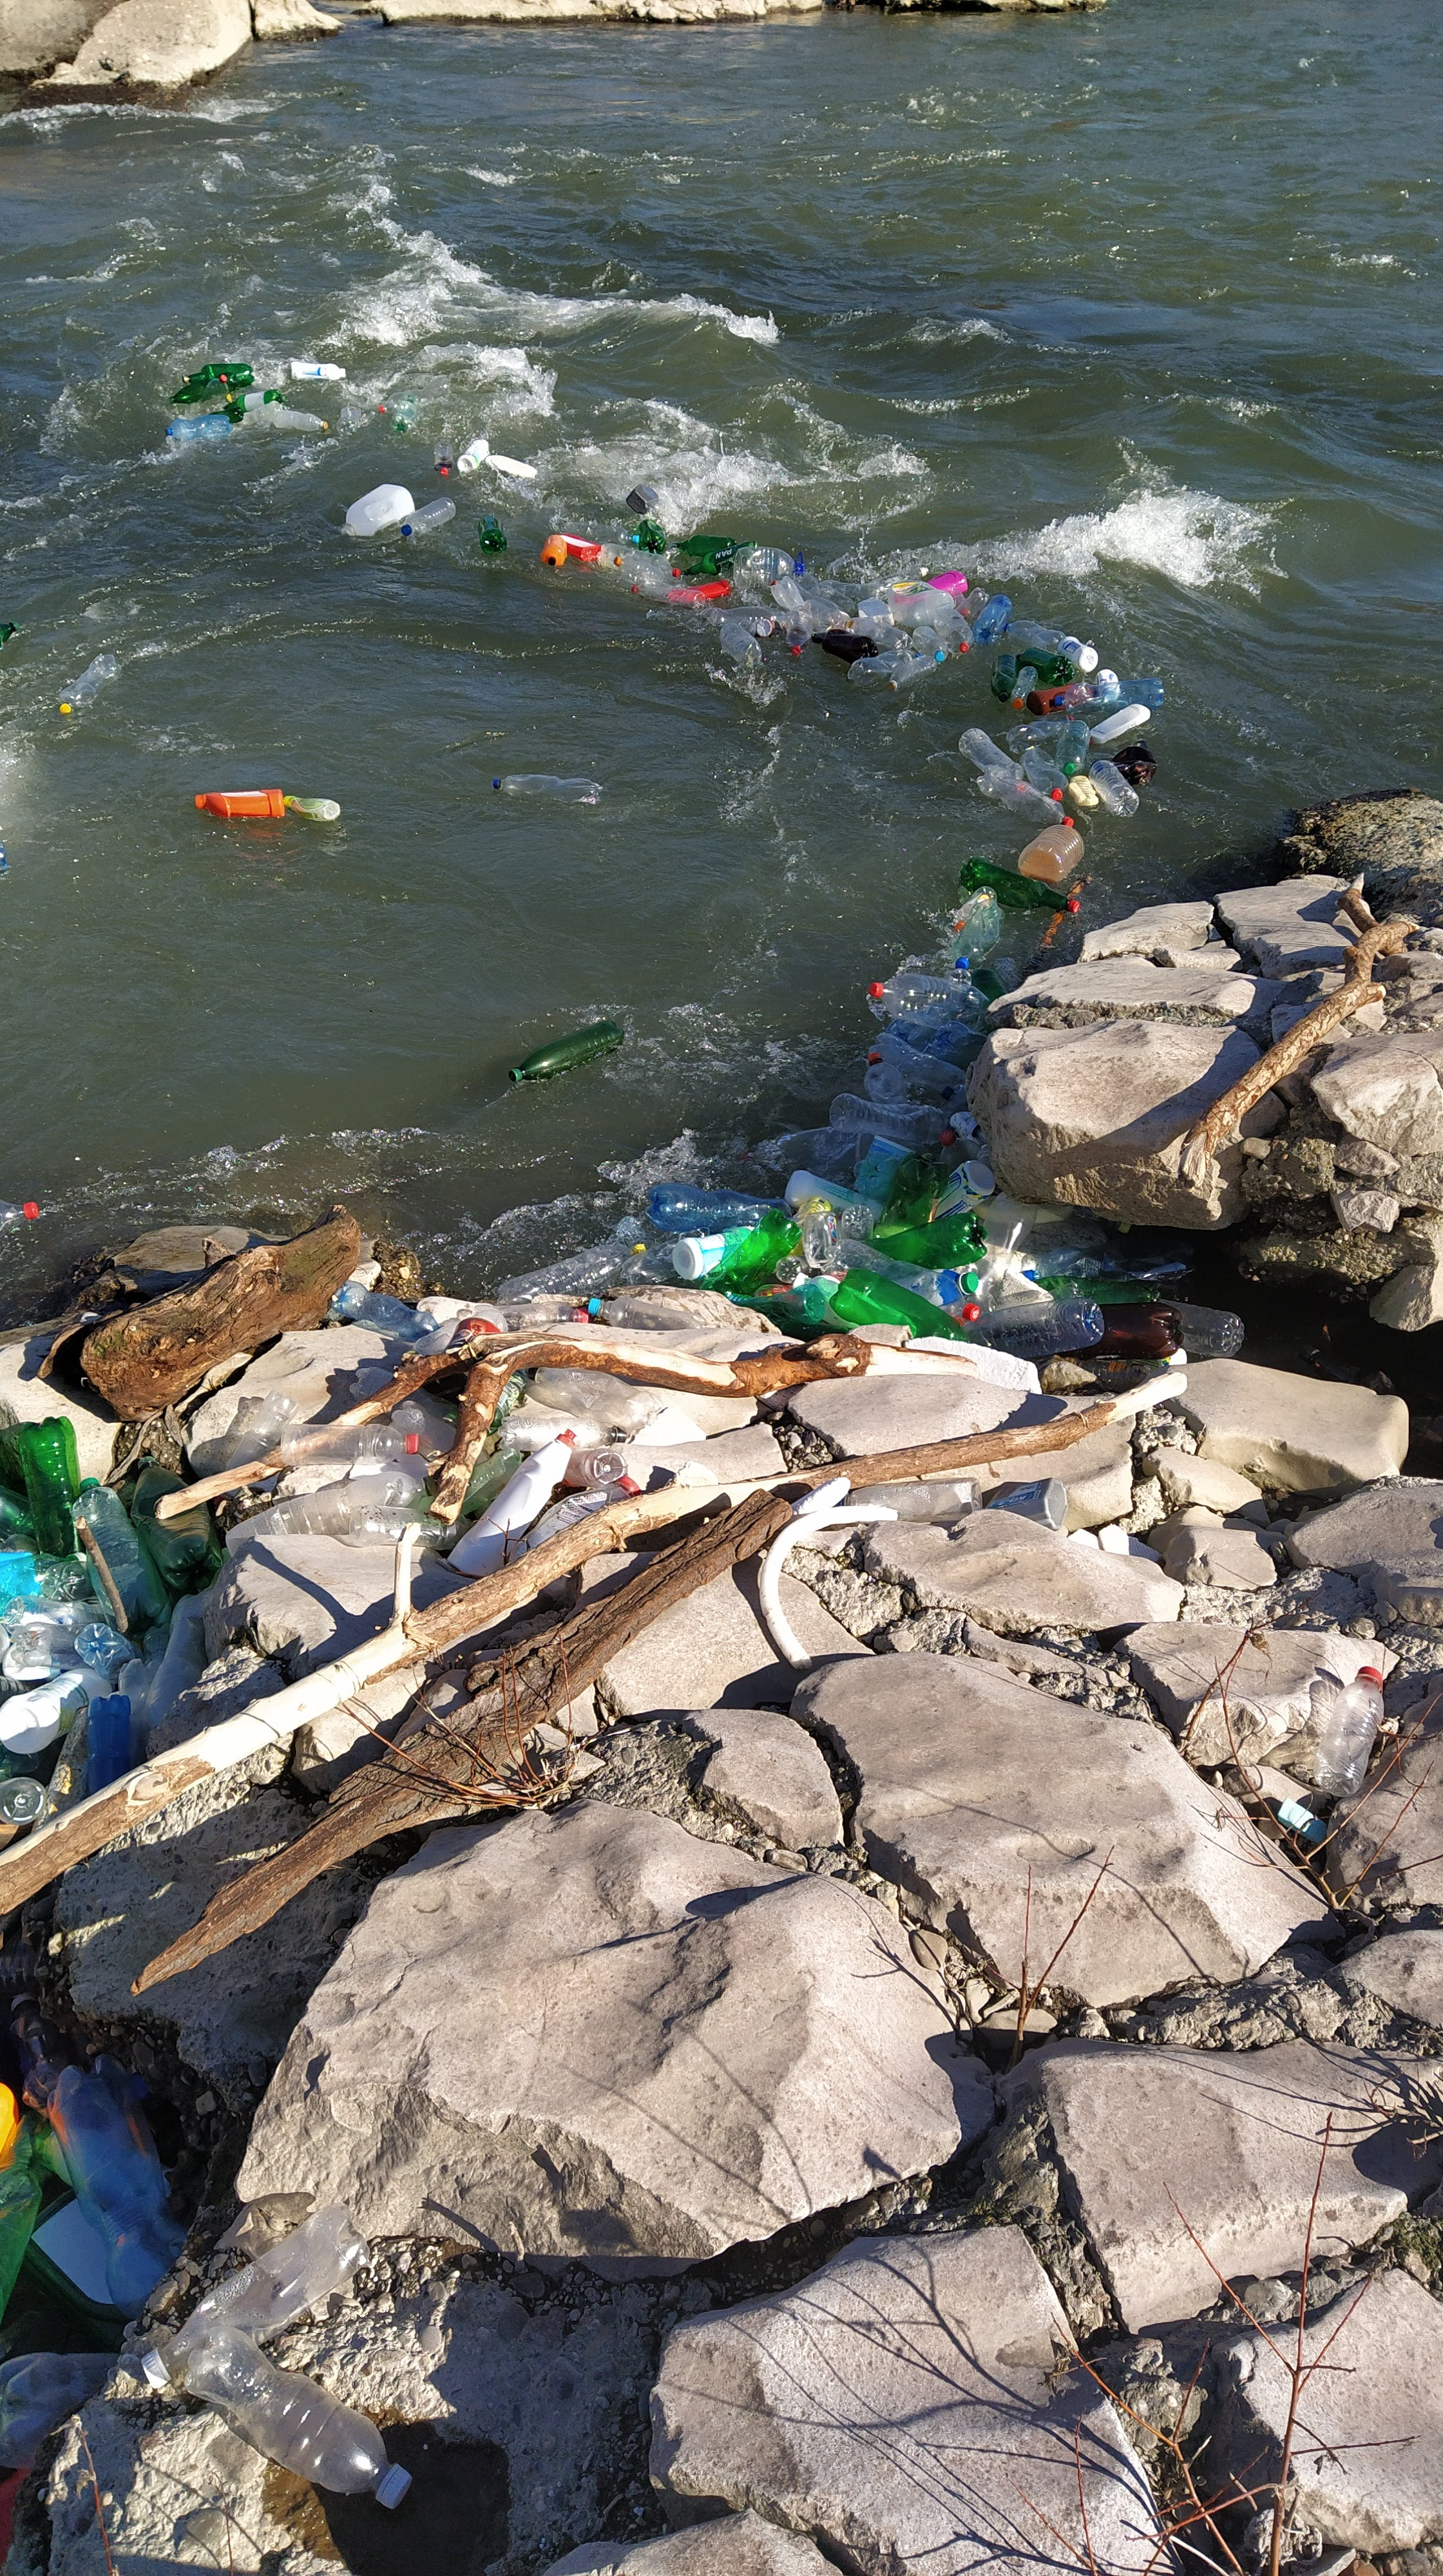Plastic Bottle: (1300, 1345, 1443, 1468), (1022, 1240, 1200, 1295), (698, 1208, 802, 1295), (498, 1244, 646, 1304), (644, 1182, 791, 1231), (508, 1021, 625, 1081), (960, 858, 1080, 913), (868, 973, 988, 1028), (976, 764, 1075, 826), (829, 1093, 951, 1143), (866, 1031, 965, 1092), (1161, 1299, 1245, 1357), (784, 1169, 882, 1219), (673, 1226, 758, 1281), (853, 1136, 922, 1201), (1053, 678, 1163, 713), (342, 483, 414, 536), (1018, 824, 1084, 883), (58, 653, 120, 713), (953, 901, 1006, 968), (1032, 1276, 1161, 1302), (958, 727, 1023, 778), (887, 580, 954, 628), (597, 543, 680, 579), (733, 547, 804, 587), (620, 1238, 680, 1286), (492, 775, 600, 801), (1089, 761, 1138, 817), (846, 649, 919, 686), (1043, 1203, 1131, 1233), (379, 377, 448, 414), (1006, 717, 1075, 754), (195, 789, 283, 817), (1020, 748, 1068, 800), (1091, 702, 1151, 743), (683, 541, 756, 575), (1016, 648, 1075, 686), (864, 1053, 908, 1104), (933, 1021, 986, 1063), (813, 630, 878, 663), (170, 372, 239, 403), (400, 497, 455, 536), (1004, 619, 1066, 653), (1114, 740, 1158, 786), (850, 617, 914, 649), (1055, 720, 1091, 775), (972, 594, 1011, 644), (632, 582, 705, 609), (954, 886, 997, 931), (933, 609, 974, 655), (887, 655, 937, 692), (719, 623, 761, 665), (182, 363, 255, 387), (565, 522, 639, 545), (165, 414, 232, 439), (809, 582, 857, 616), (940, 1131, 981, 1169), (822, 579, 885, 603), (1057, 635, 1098, 672), (283, 794, 340, 821), (1027, 683, 1071, 717), (614, 556, 669, 582), (0, 1200, 37, 1238), (193, 373, 227, 416), (675, 534, 737, 557), (804, 598, 845, 632), (705, 607, 754, 633), (225, 389, 285, 410), (786, 605, 811, 656), (914, 626, 949, 662), (485, 455, 538, 478), (972, 968, 1007, 1001), (992, 655, 1016, 702), (1011, 665, 1038, 709), (871, 568, 930, 587), (770, 575, 804, 609), (956, 587, 990, 621), (274, 410, 328, 432), (290, 361, 347, 380), (478, 515, 506, 554), (561, 533, 600, 561), (637, 518, 667, 554), (457, 441, 489, 472), (390, 398, 418, 433), (627, 483, 659, 513), (724, 605, 784, 621), (928, 571, 968, 594), (940, 1083, 968, 1115), (244, 402, 283, 425), (540, 534, 567, 566), (689, 579, 731, 598), (336, 405, 363, 433), (434, 441, 453, 476), (907, 1028, 935, 1051), (885, 1019, 914, 1040), (1050, 1283, 1084, 1299), (1160, 1348, 1188, 1366), (211, 409, 244, 423), (0, 621, 18, 646), (945, 968, 972, 984), (756, 617, 776, 639), (1096, 669, 1119, 685), (0, 844, 7, 869), (954, 593, 967, 607)
